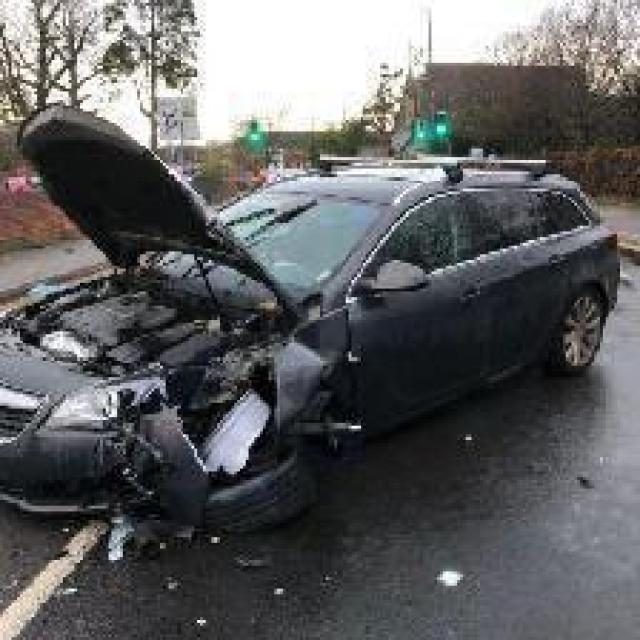damaged: (0, 105, 360, 540)
